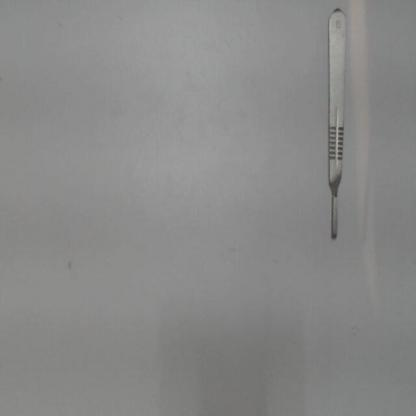No.4 BP Handle: (315, 0, 353, 248)
